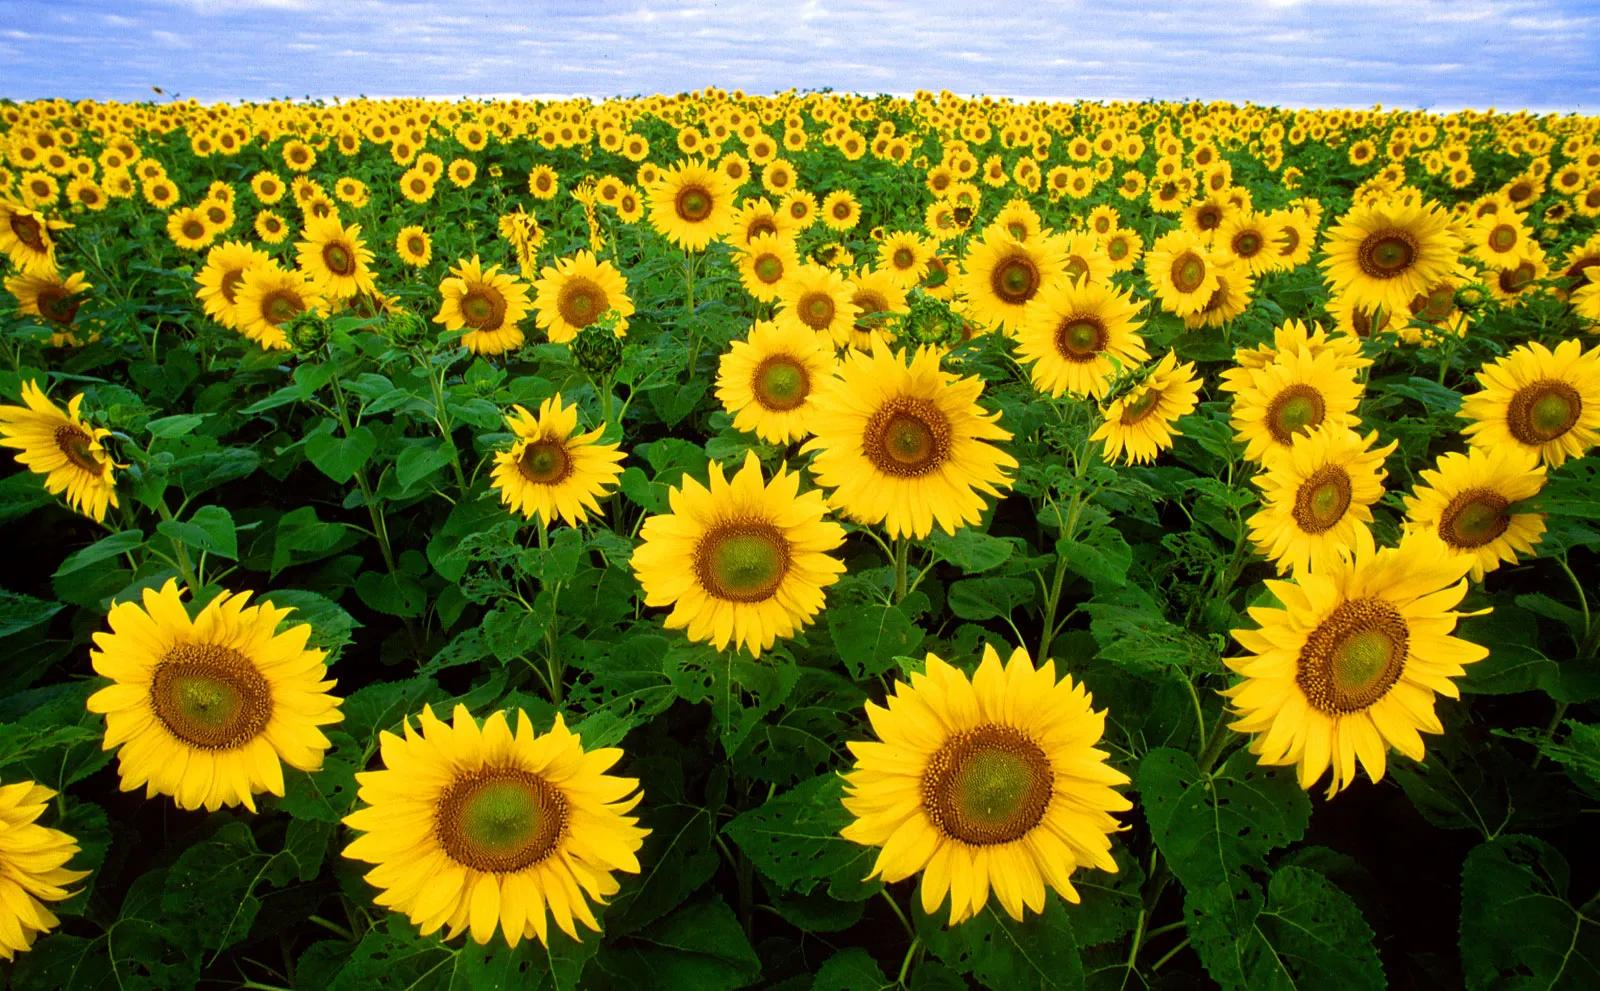sunflower: (355, 700, 647, 940), (855, 658, 1125, 911), (1221, 557, 1467, 778), (85, 585, 331, 805), (638, 470, 842, 645), (821, 357, 1010, 534), (1, 365, 139, 525), (1397, 443, 1551, 582), (1455, 329, 1600, 467), (200, 247, 334, 365), (1258, 443, 1384, 564), (497, 407, 617, 520), (705, 330, 830, 432), (1327, 208, 1454, 307), (961, 242, 1067, 338), (6, 265, 107, 357), (454, 267, 530, 354), (1, 189, 67, 288), (655, 175, 731, 259), (547, 277, 627, 344)
